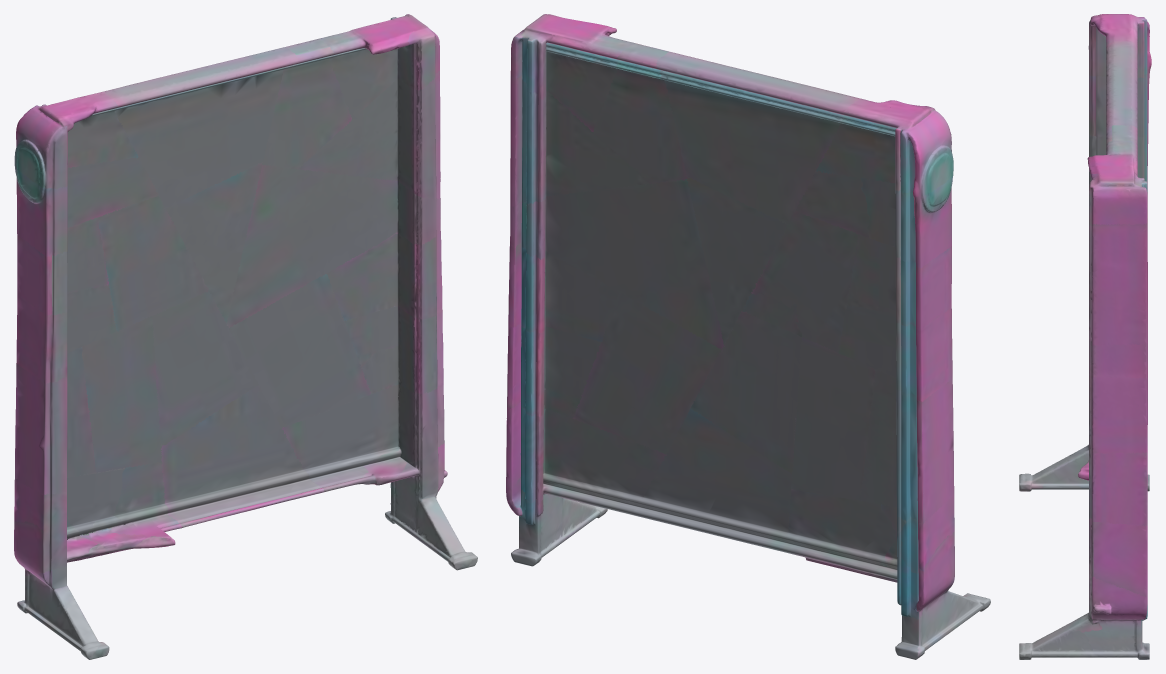
Rendered from cubicle_wall.glb.
3 views of the same model, side by side, from view 1: azimuth 30°, elevation 25°; view 2: azimuth 150°, elevation 25°; view 3: azimuth 270°, elevation 25° (orthographic). The views are drawn at different scales.
Parts seen in each view (by area): view 1: tripo_node_f2e95cdb-3eba-4a28-9a96-a48519dd8184; view 2: tripo_node_f2e95cdb-3eba-4a28-9a96-a48519dd8184; view 3: tripo_node_f2e95cdb-3eba-4a28-9a96-a48519dd8184.
Boxes of the visible parts, x1,y1,x2,y2 form: tripo_node_f2e95cdb-3eba-4a28-9a96-a48519dd8184: (14,14,477,659); tripo_node_f2e95cdb-3eba-4a28-9a96-a48519dd8184: (506,14,990,659); tripo_node_f2e95cdb-3eba-4a28-9a96-a48519dd8184: (1019,14,1151,659).
Size of the model in its own units: 0.8393 by 0.9999 by 0.2521.
Materials: 1 (1 with a texture image).
